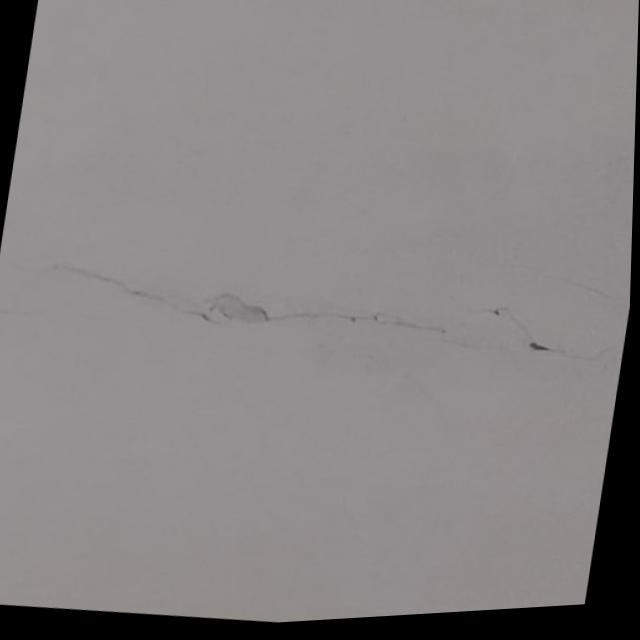Crack: (47, 259, 610, 364)
